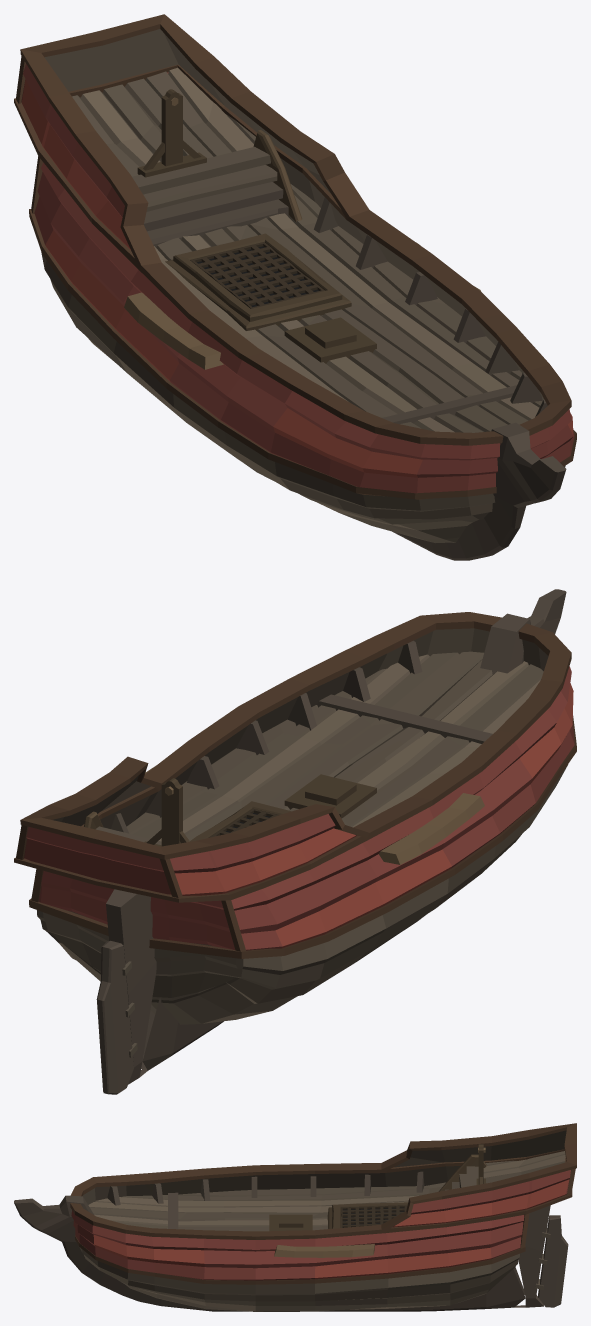
File: SM_Veh_Boat_Medium_01_Hull_Pirate.glb
3 views of the same model, one above another, from view 1: azimuth 30°, elevation 25°; view 2: azimuth 150°, elevation 25°; view 3: azimuth 270°, elevation 25° (orthographic). The views are drawn at different scales.
Visible parts, largest first — view 1: SM_Veh_Boat_Medium_01_Hull_Pirate; view 2: SM_Veh_Boat_Medium_01_Hull_Pirate; view 3: SM_Veh_Boat_Medium_01_Hull_Pirate.
Part boxes in pixels (bbox=[...]): SM_Veh_Boat_Medium_01_Hull_Pirate: bbox=[14, 14, 576, 560]; SM_Veh_Boat_Medium_01_Hull_Pirate: bbox=[14, 589, 576, 1094]; SM_Veh_Boat_Medium_01_Hull_Pirate: bbox=[14, 1123, 576, 1311].
Bounding box in the file's own units: 0.0507 × 0.0467 × 0.1429.
Materials: 1 (1 with a texture image).
